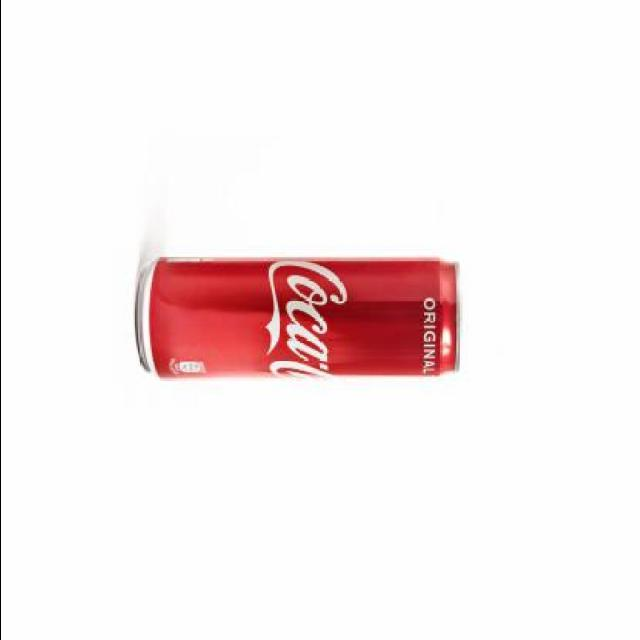Coke: (138, 254, 462, 386)
